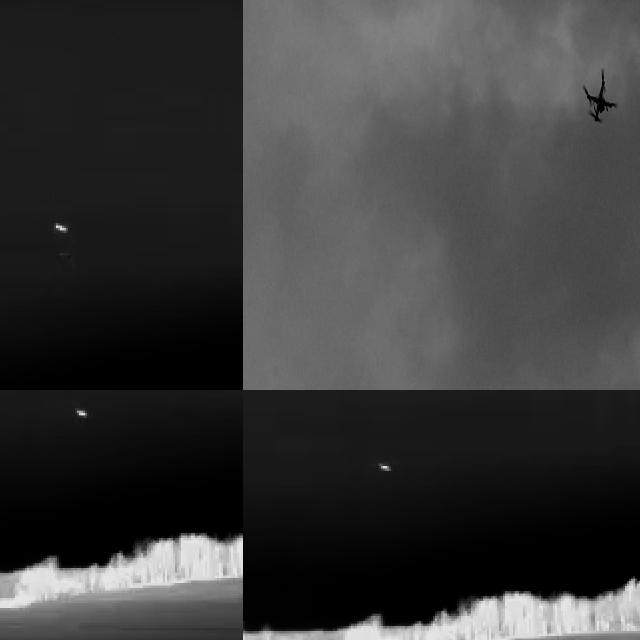1: (66, 402, 98, 432), (370, 456, 402, 486), (46, 217, 76, 247)
drone: (582, 71, 618, 126)
